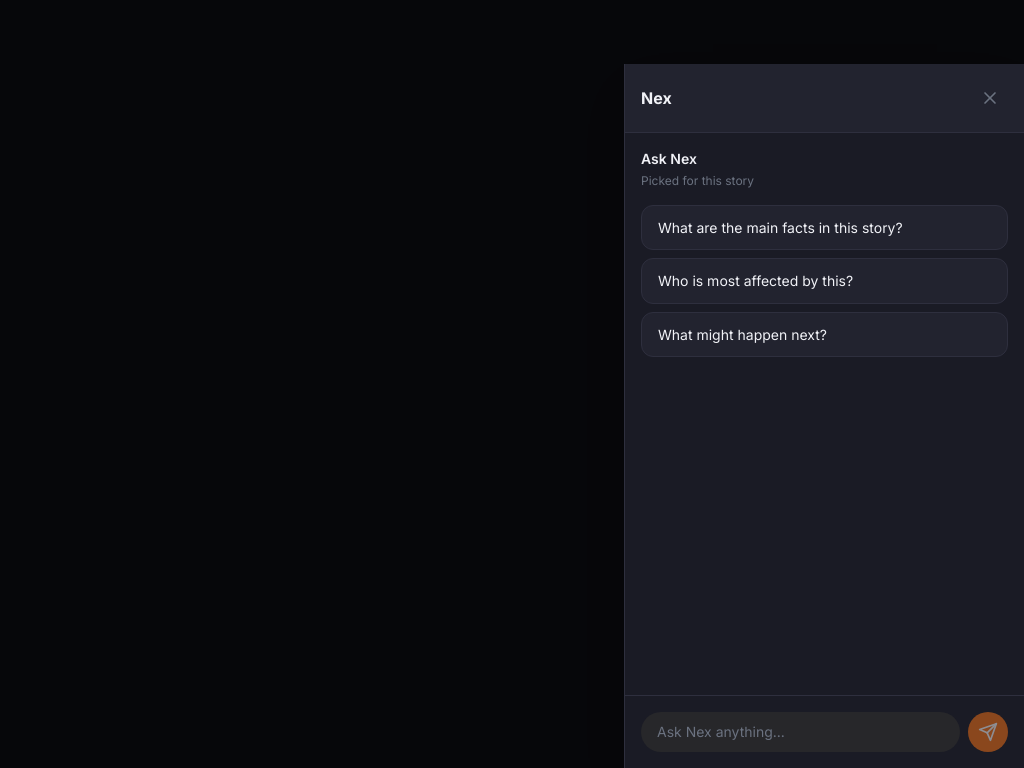
it: SlideOutChatPanel › response handling › removes optimistic message and shows error banner on failure
In the field with placeholder "Ask Nex anything...": (800, 732) [641,712,960,752], type "Tell me more"
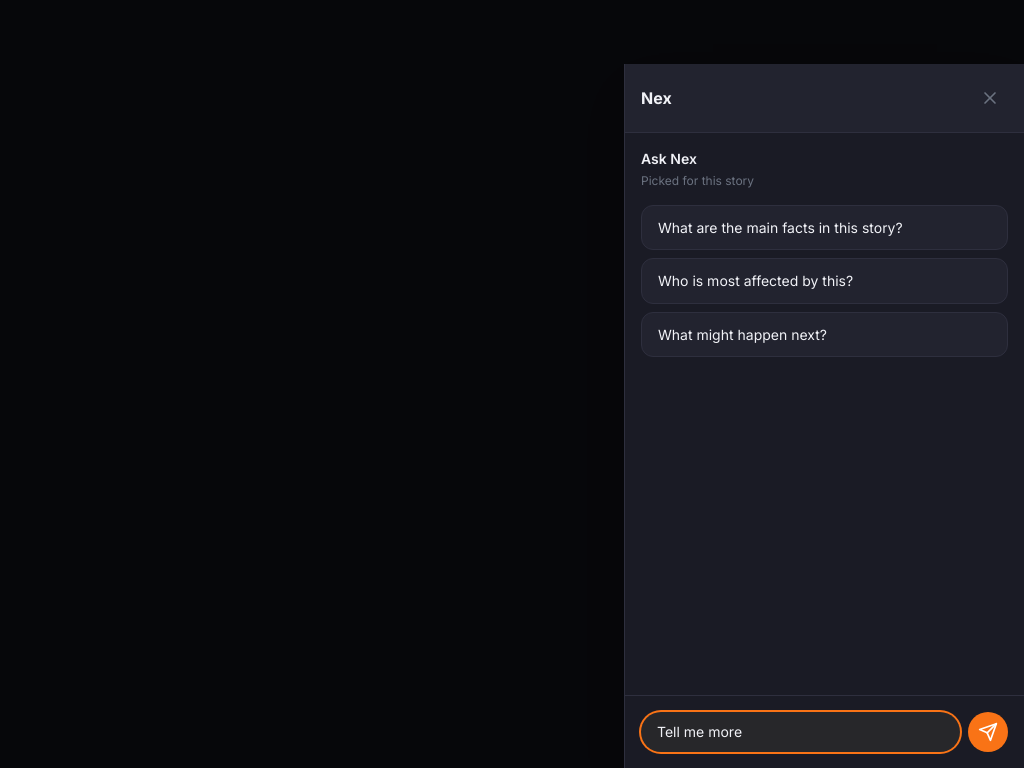
Click the button named "Send message": (988, 732) [968,712,1008,752]
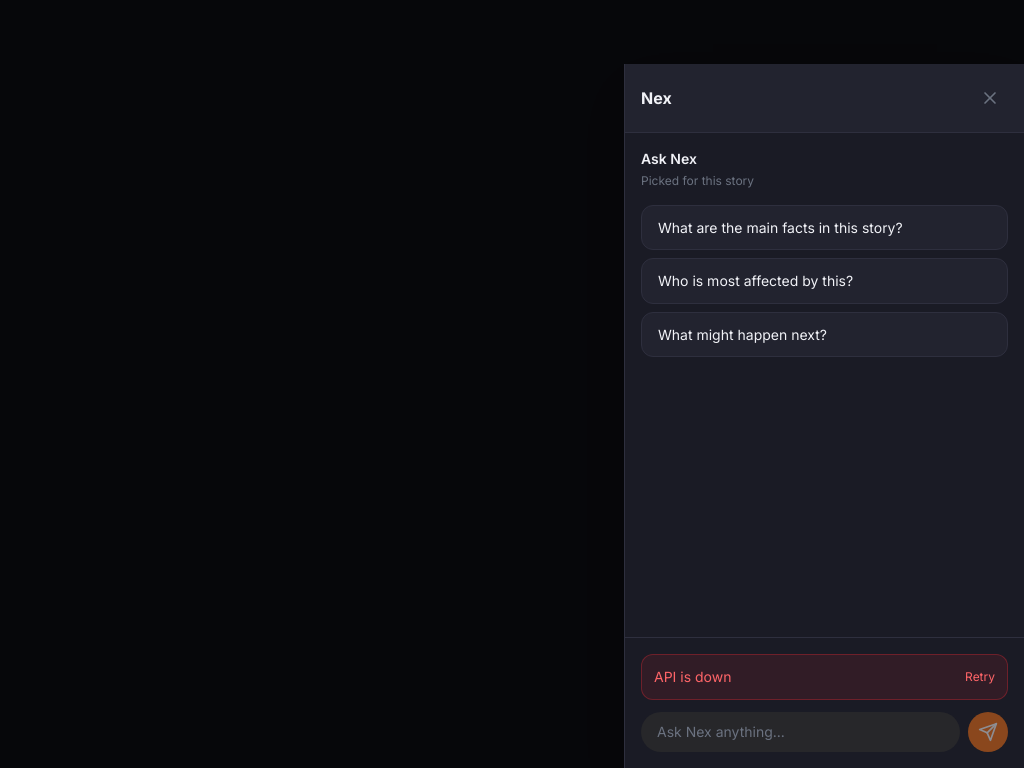
expect the text "Tell me more" is not shown: met
expect the text "API is down" is shown: met, box [654,667,732,687]
